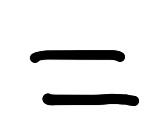eqv: (30, 50, 139, 106)
